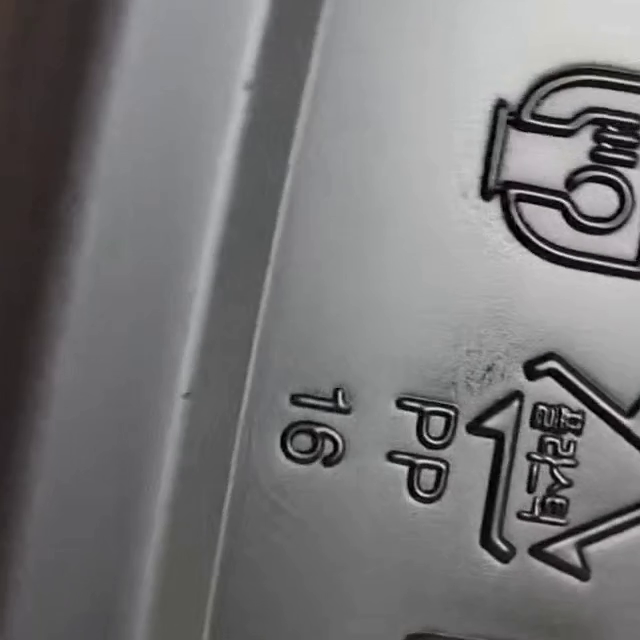Plastic: (467, 355, 637, 584)
